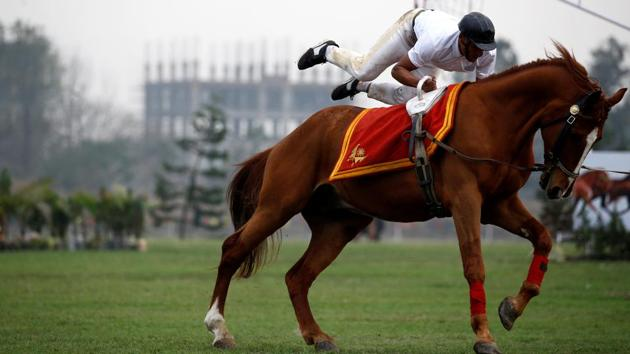human: (292, 3, 508, 114)
